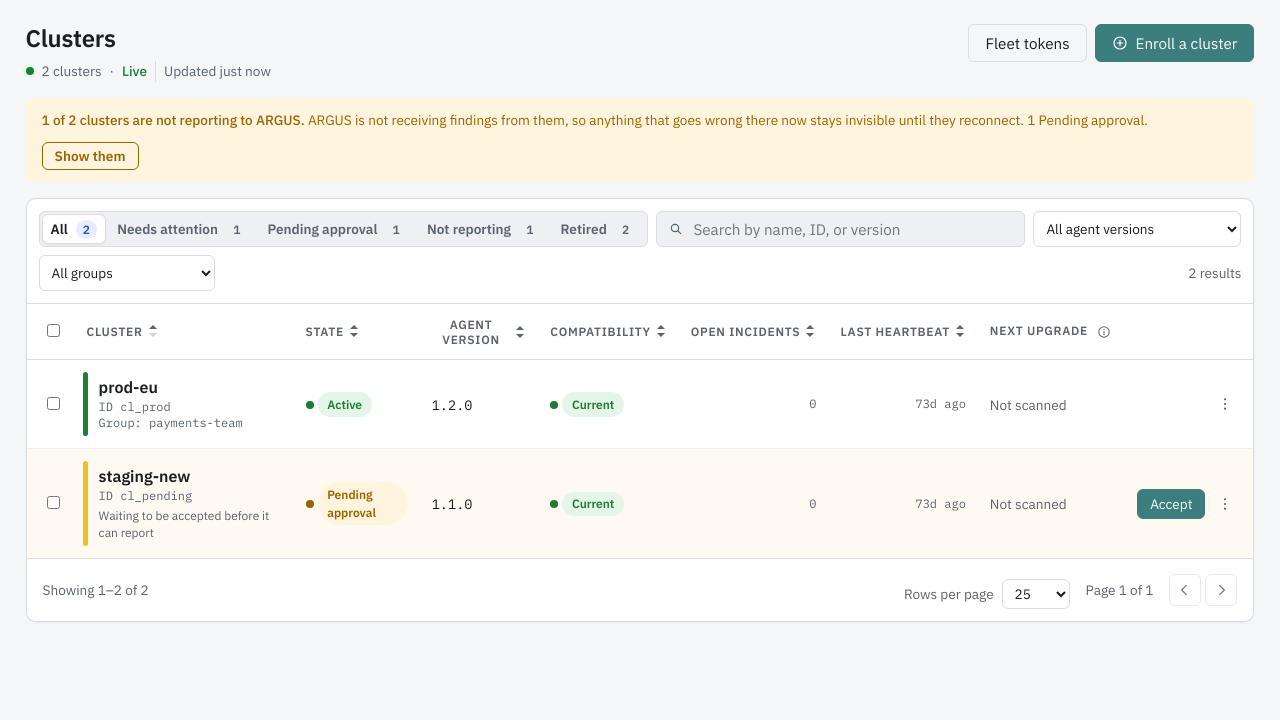
Test: ClustersPage — cluster group filter and per-row membership (BACKLOG S3) › filtering by group narrows the table to that group's members only
The image size is (1280, 720).
Expected: the link "prod-eu" is shown, [99,376,158,399]
Expected: the link "staging-new" is shown, [99,465,190,488]
Select "payments-team" in the 2nd dropdown named "Filter by cluster group": x=127, y=273 [39,255,215,291]
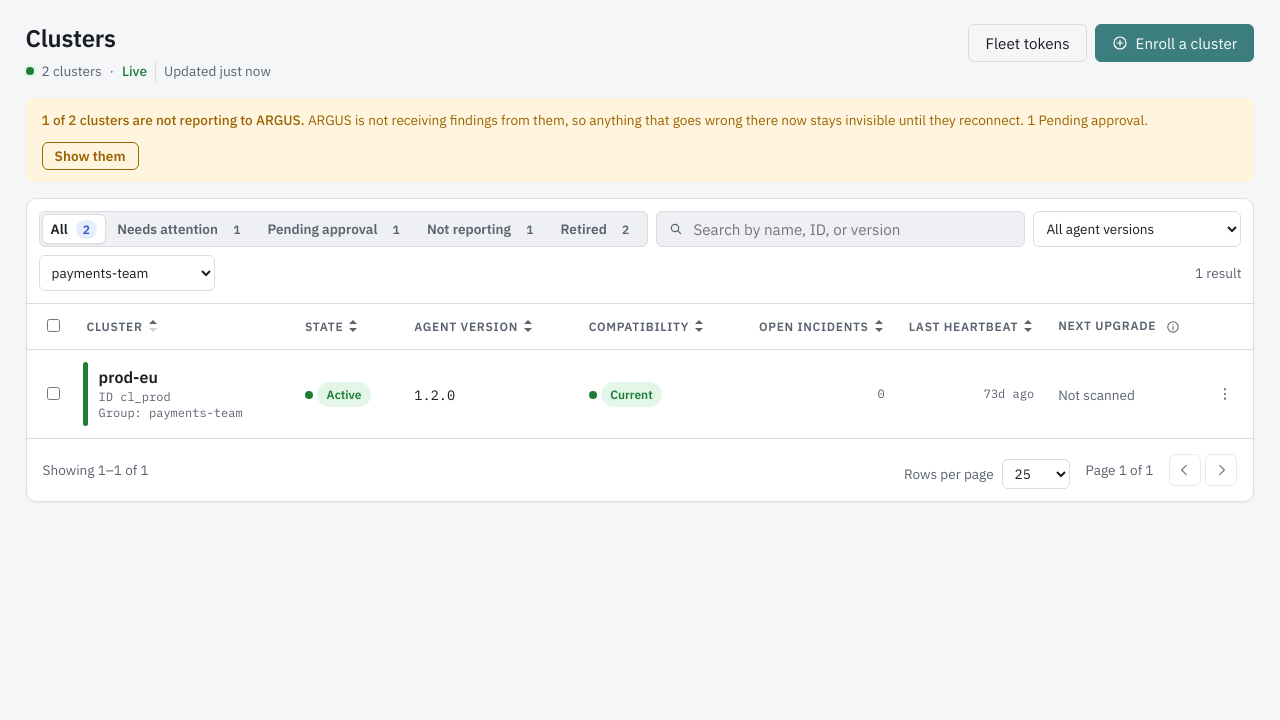
Expected: the link "prod-eu" is shown, [99,366,158,389]
Now the link "staging-new" is gone
